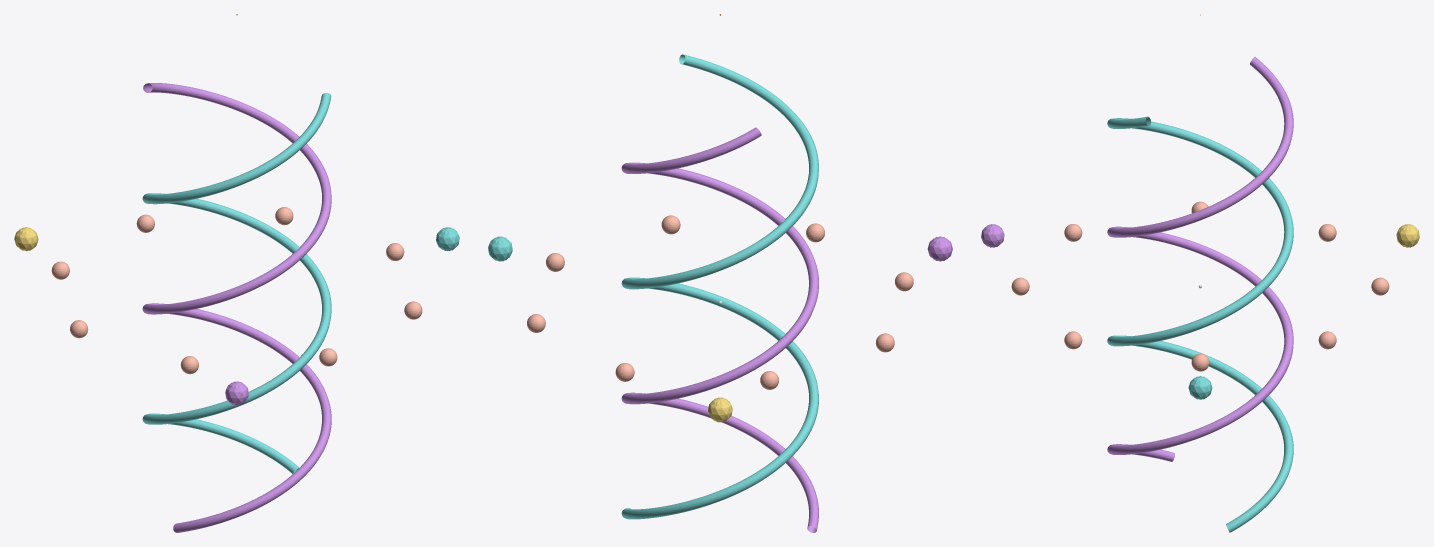
The model's file is claudedndistrandv2.glb.
3 renders of one model, left to right at view 1: azimuth 30°, elevation 25°; view 2: azimuth 150°, elevation 25°; view 3: azimuth 270°, elevation 25°, orthographic. The views are drawn at different scales.
Parts seen in each view (by area): view 1: DNAStrand_1, DNAStrand_0; view 2: DNAStrand_0, DNAStrand_1; view 3: DNAStrand_1, DNAStrand_0.
Part boxes in pixels (x1,y1,x2,y2): DNAStrand_1: (142, 83, 331, 532); DNAStrand_0: (142, 93, 331, 473); DNAStrand_0: (621, 54, 818, 519); DNAStrand_1: (621, 127, 818, 532); DNAStrand_1: (1107, 57, 1293, 461); DNAStrand_0: (1107, 116, 1293, 532).
Size of what is drawn, in the model's own units: 7.34 by 8.89 by 7.32.
